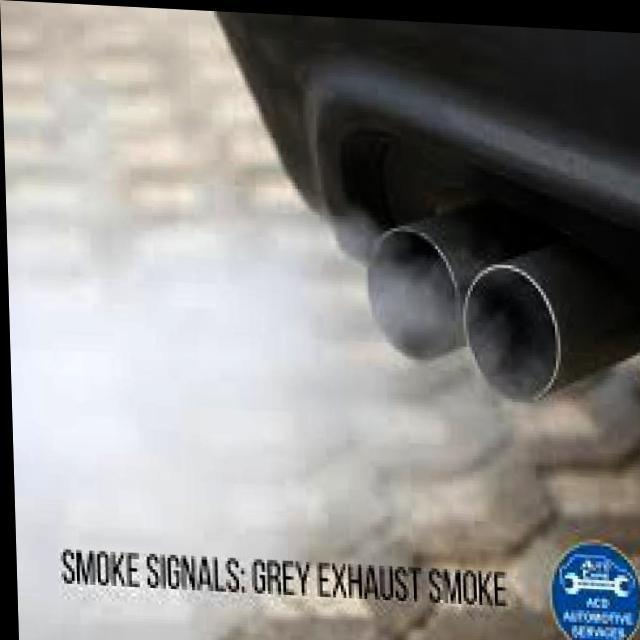Smoke: (4, 177, 585, 640)
